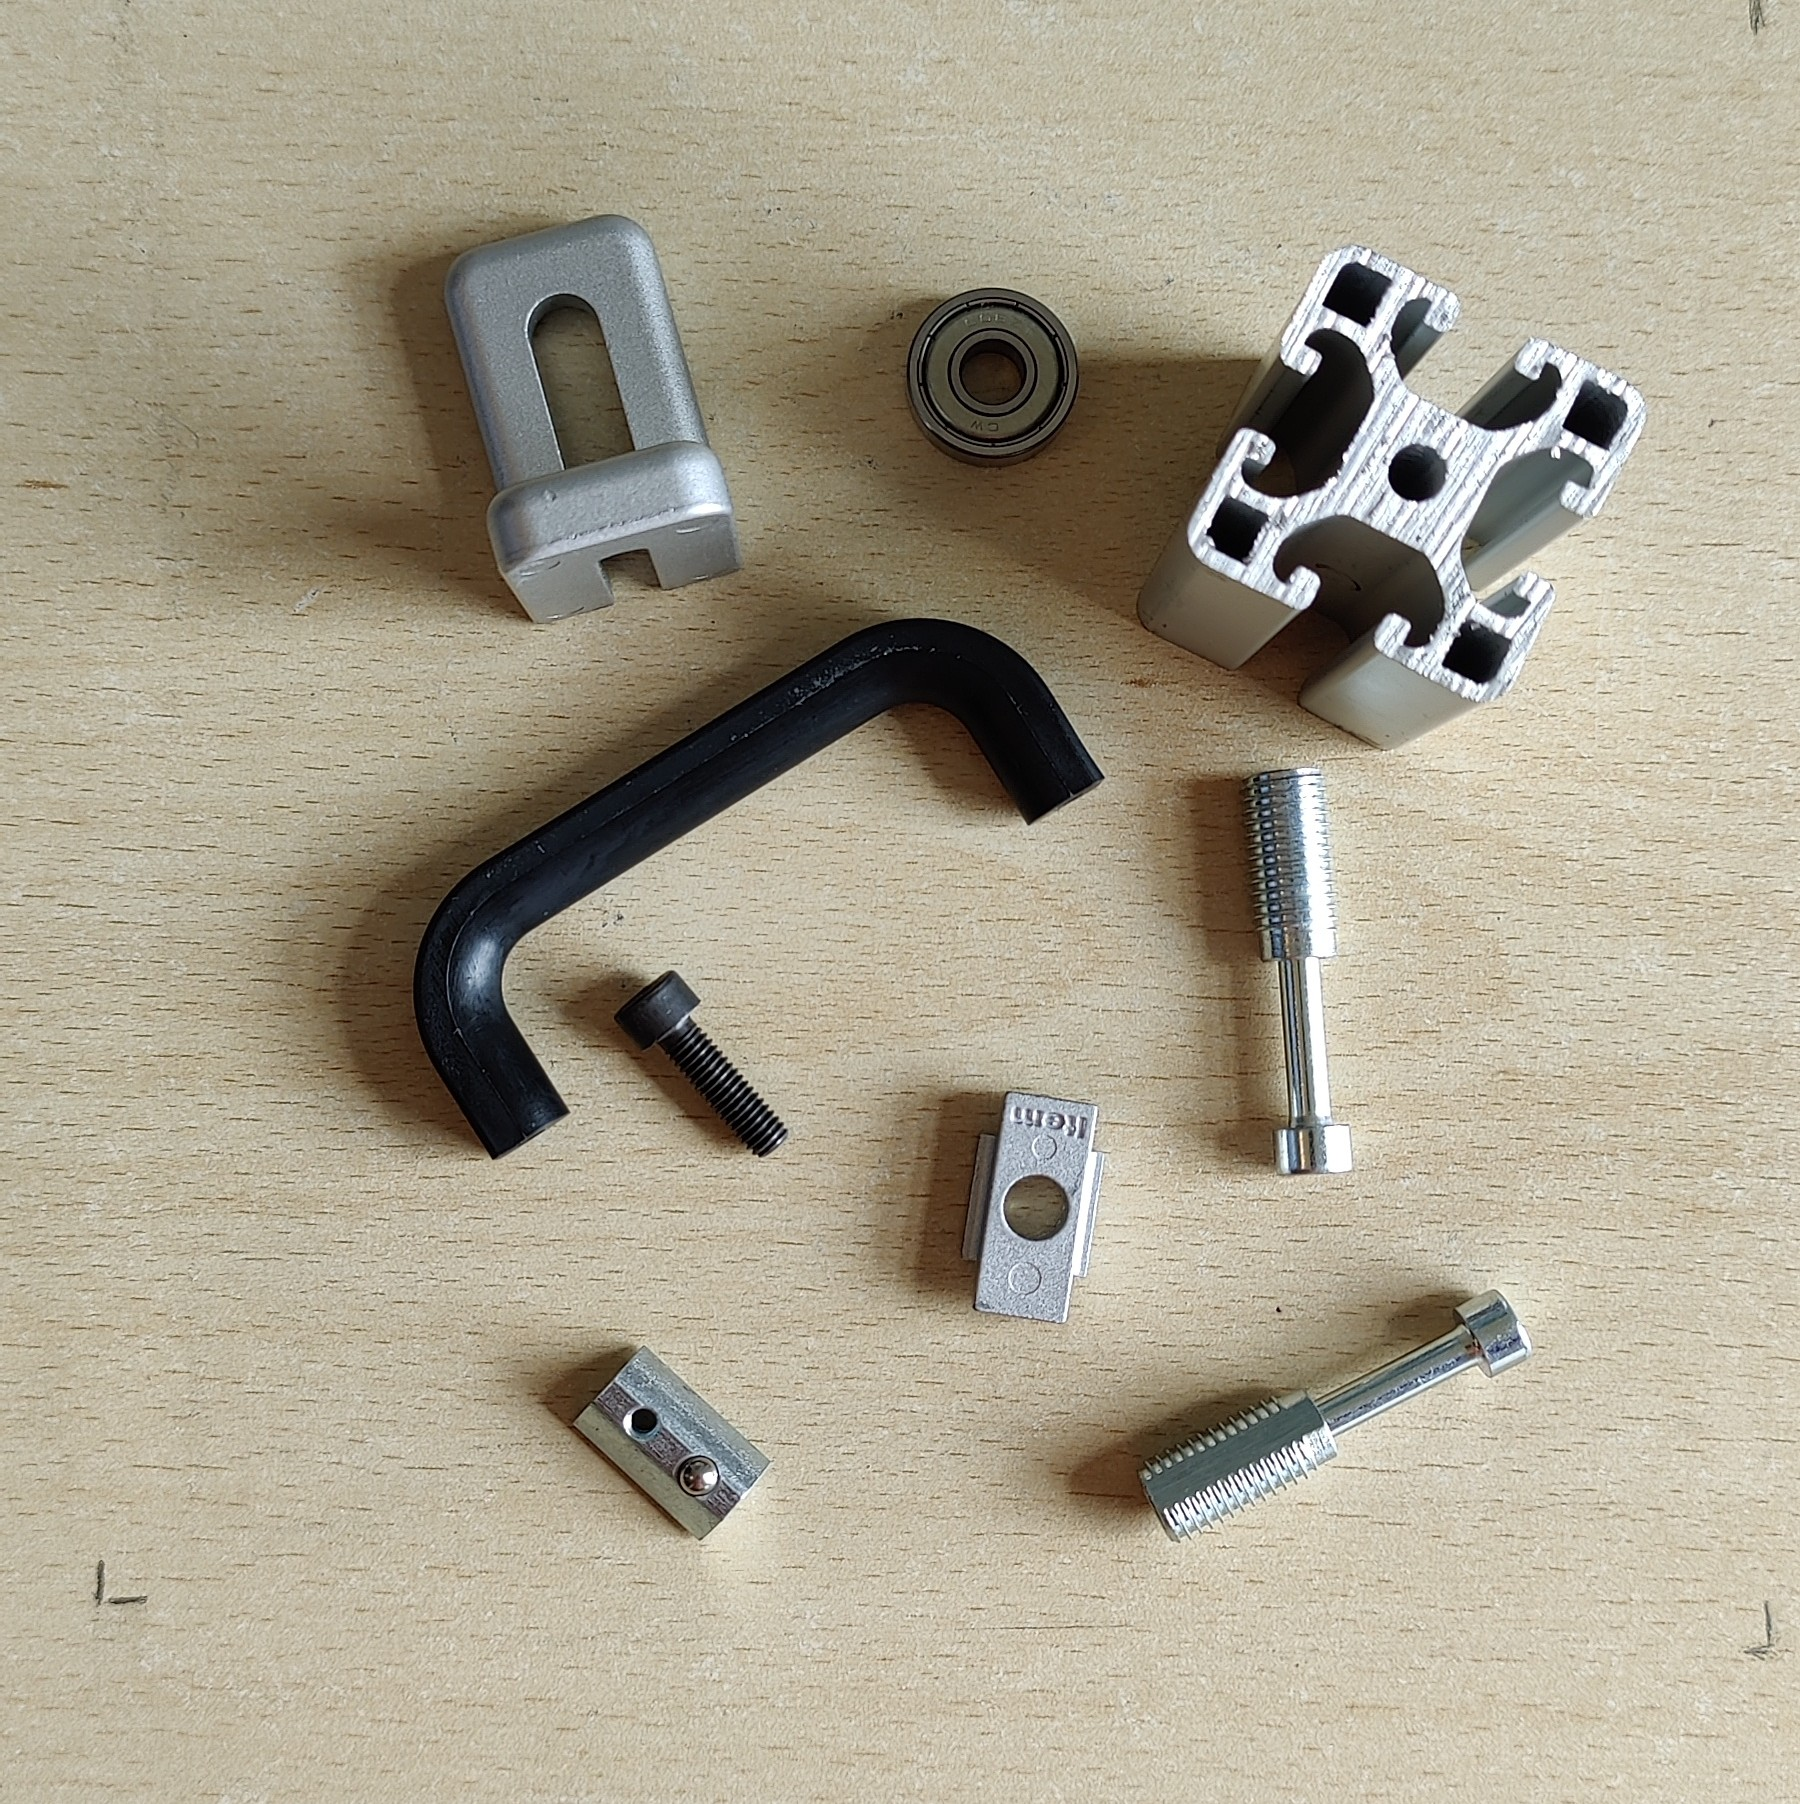Aluminium Extension: (1134, 242, 1647, 754)
Ball Bearing: (902, 285, 1081, 468)
Multiwinkel: (442, 211, 747, 628)
Pull Handle: (410, 613, 1109, 1163)
Shoulder Socket Head Cap Screw: (1137, 1285, 1535, 1548), (1236, 763, 1358, 1182)
Socket Head Cap Screw: (613, 966, 791, 1164)
T Nut Square: (959, 1087, 1109, 1327)
T Spring Nut: (569, 1344, 775, 1547)
